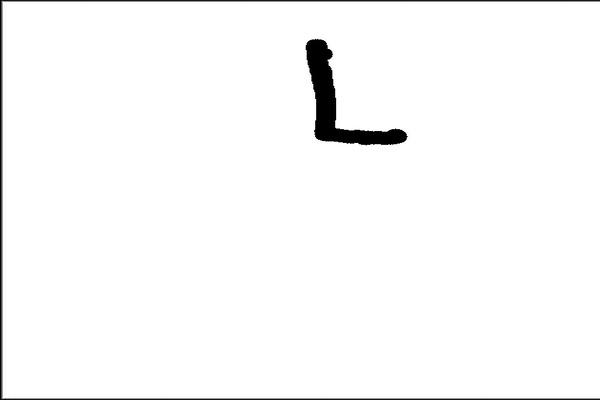L: (296, 29, 415, 154)
